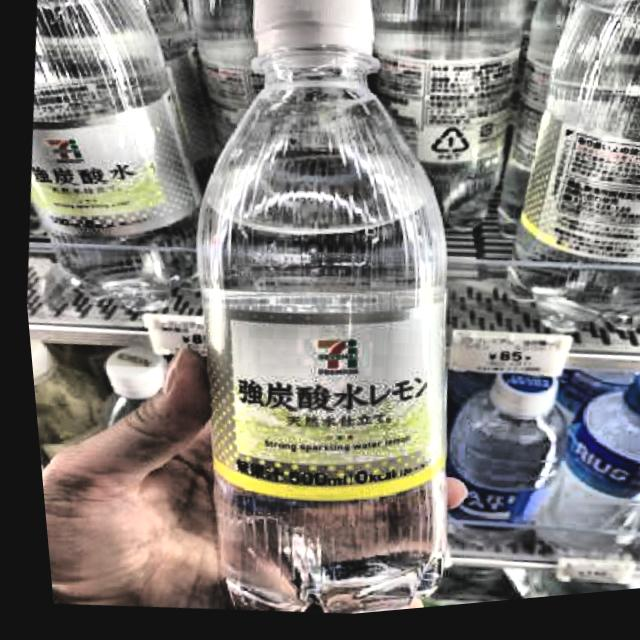Bottles: (104, 0, 556, 633)
